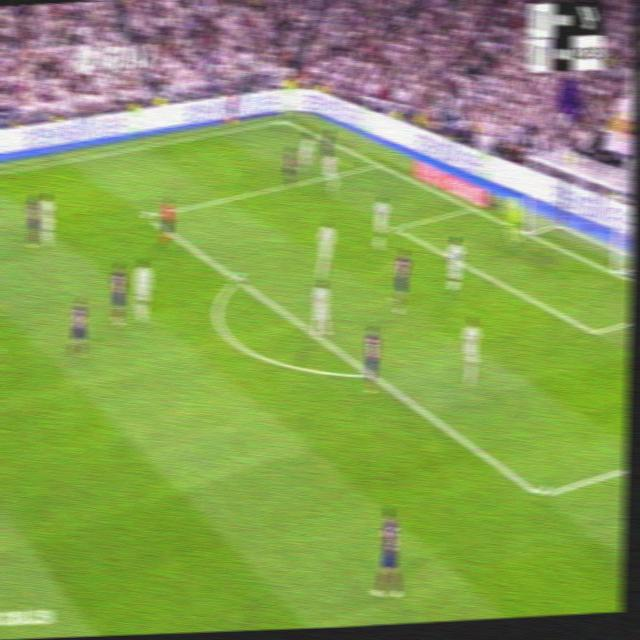bigarea_bottom_inner: (531, 479, 550, 511)
bigarea_top_inner: (142, 205, 155, 225)
bigarea_top_outter: (372, 156, 384, 171)
corner: (277, 112, 290, 125)
smallarea_bottom_inner: (588, 320, 602, 343)
smallarea_top_inner: (390, 216, 403, 236)
top_arc_area_intersection: (231, 268, 244, 288)
